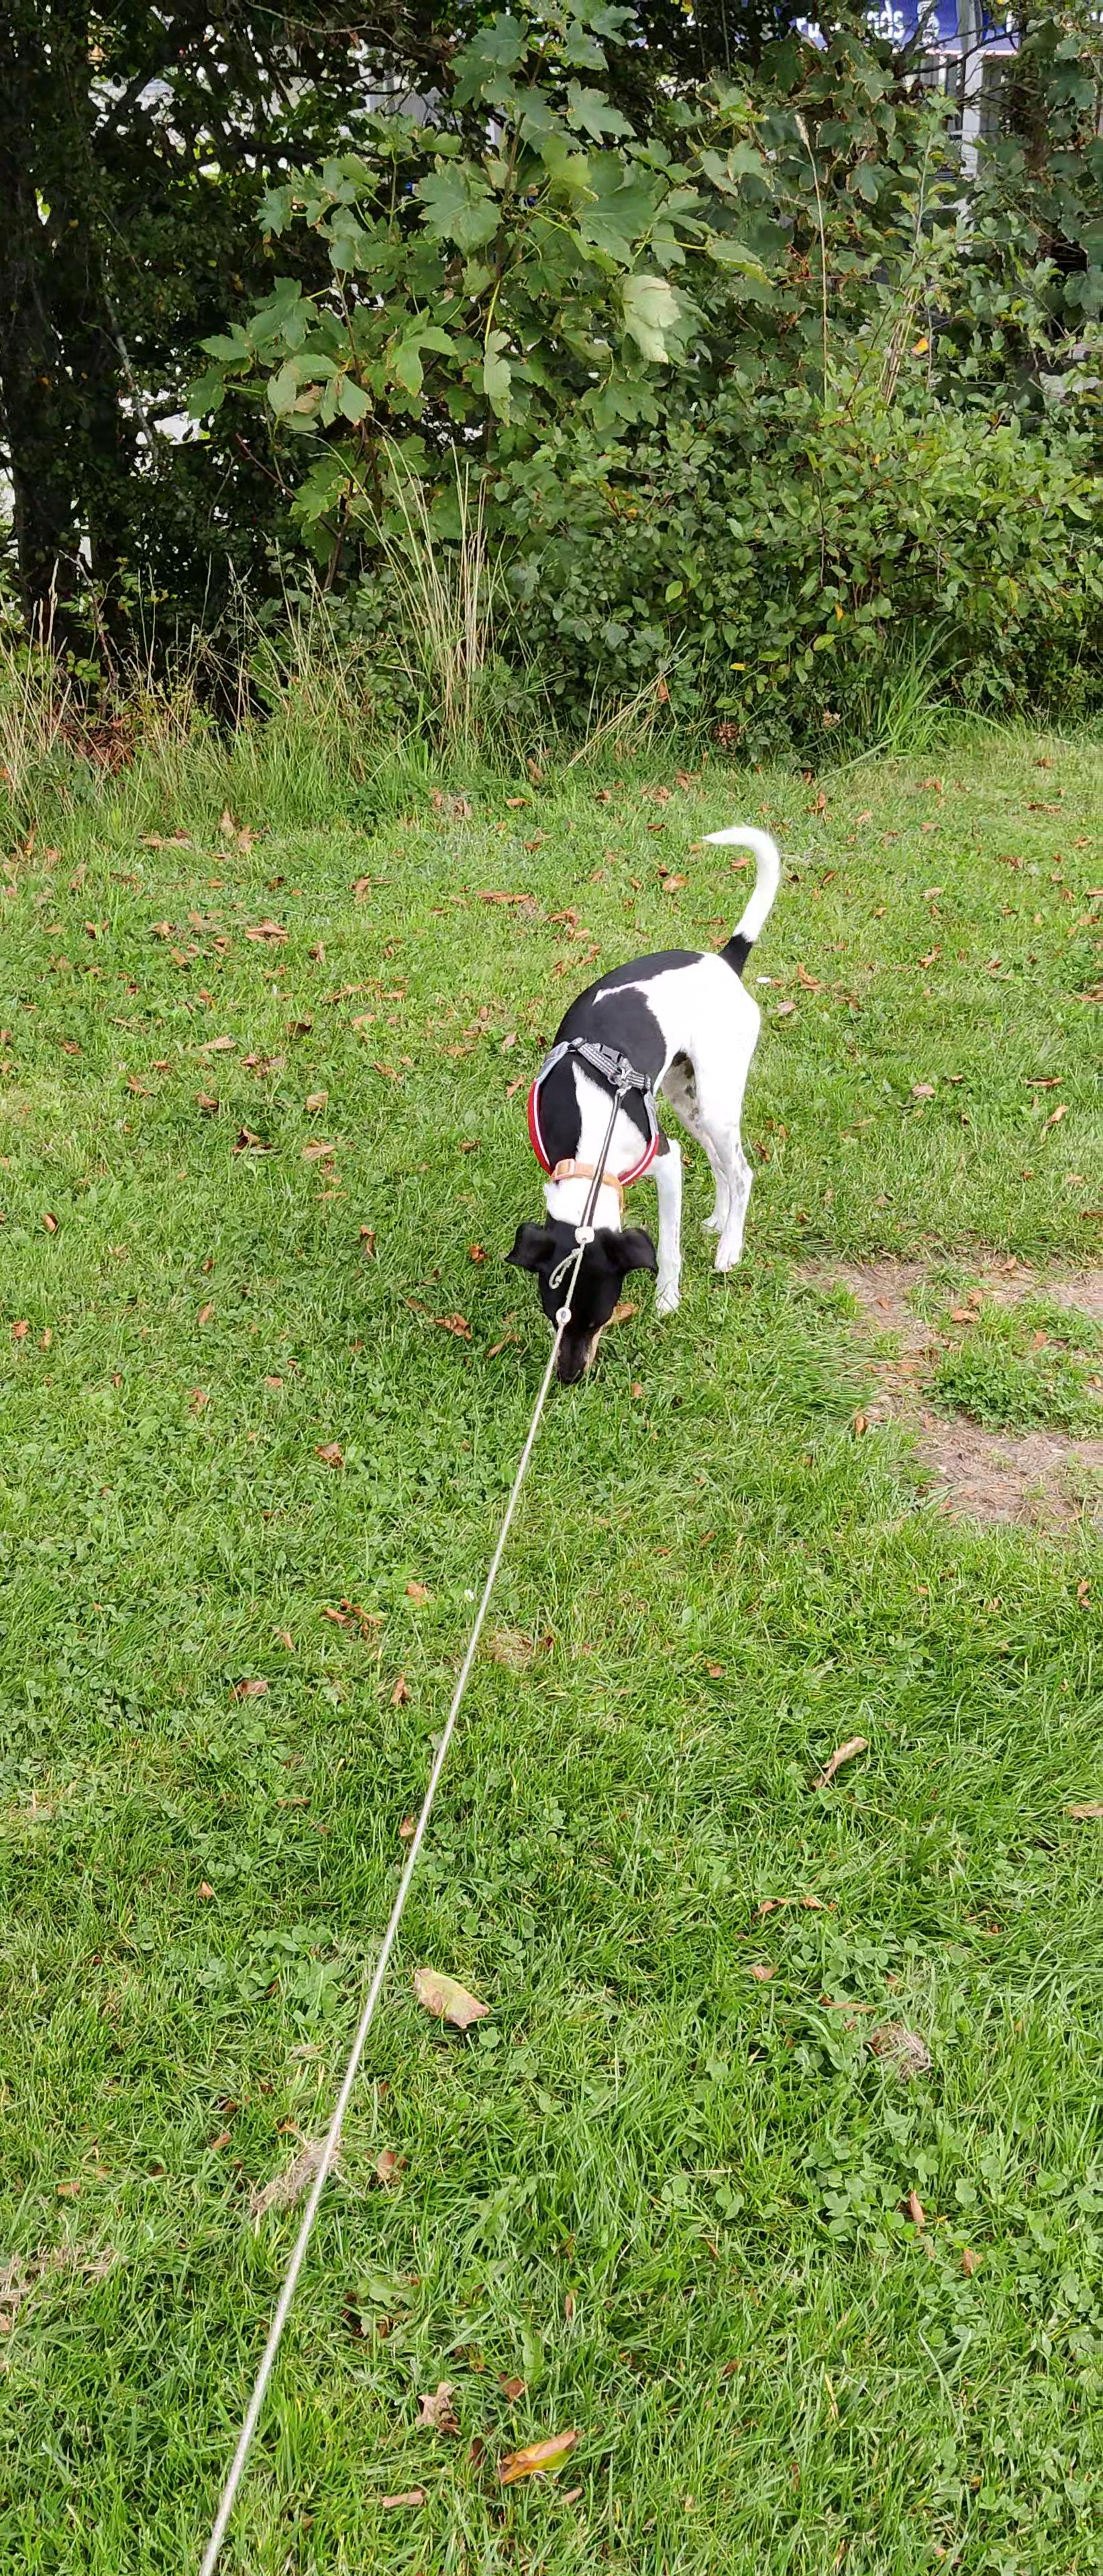Dog: (496, 823, 786, 1388)
